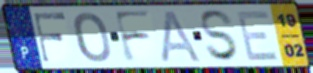A: (160, 9, 204, 64)
E: (235, 9, 281, 63)
F: (111, 9, 153, 64), (32, 11, 68, 65)
O: (72, 11, 113, 65)
S: (198, 9, 241, 63)
